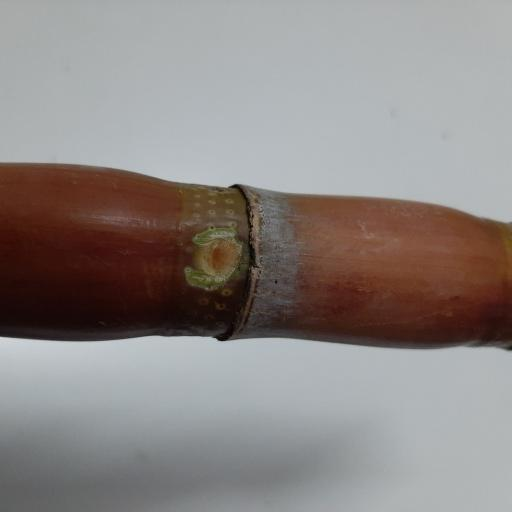Damage_Bud: (191, 228, 246, 291)
